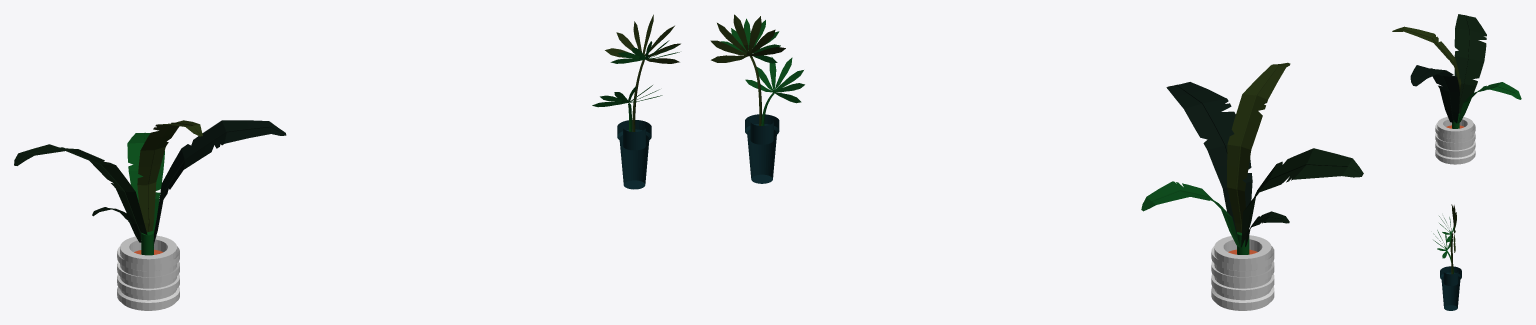
File: scene-object-test-merge-anim.obj
3 views of the same model, side by side, from view 1: azimuth 30°, elevation 25°; view 2: azimuth 150°, elevation 25°; view 3: azimuth 270°, elevation 25° (orthographic). The views are drawn at different scales.
Parts seen in each view (by area): view 1: Cylinder.007_Cylinder.008; view 2: Cylinder.007_Cylinder.008; view 3: Cylinder.007_Cylinder.008.
Part boxes in pixels (<box>): Cylinder.007_Cylinder.008: <box>14,14,680,310</box>; Cylinder.007_Cylinder.008: <box>710,14,1363,310</box>; Cylinder.007_Cylinder.008: <box>1392,14,1521,310</box>.
Size of the model in its own units: 7.44 by 2.19 by 1.98.
